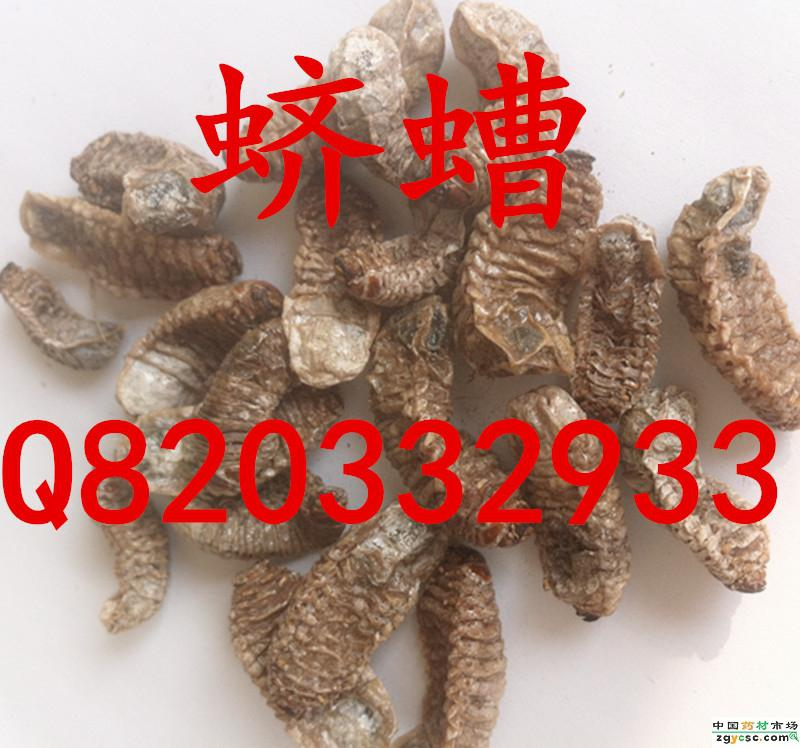grub: (672, 153, 800, 420)
